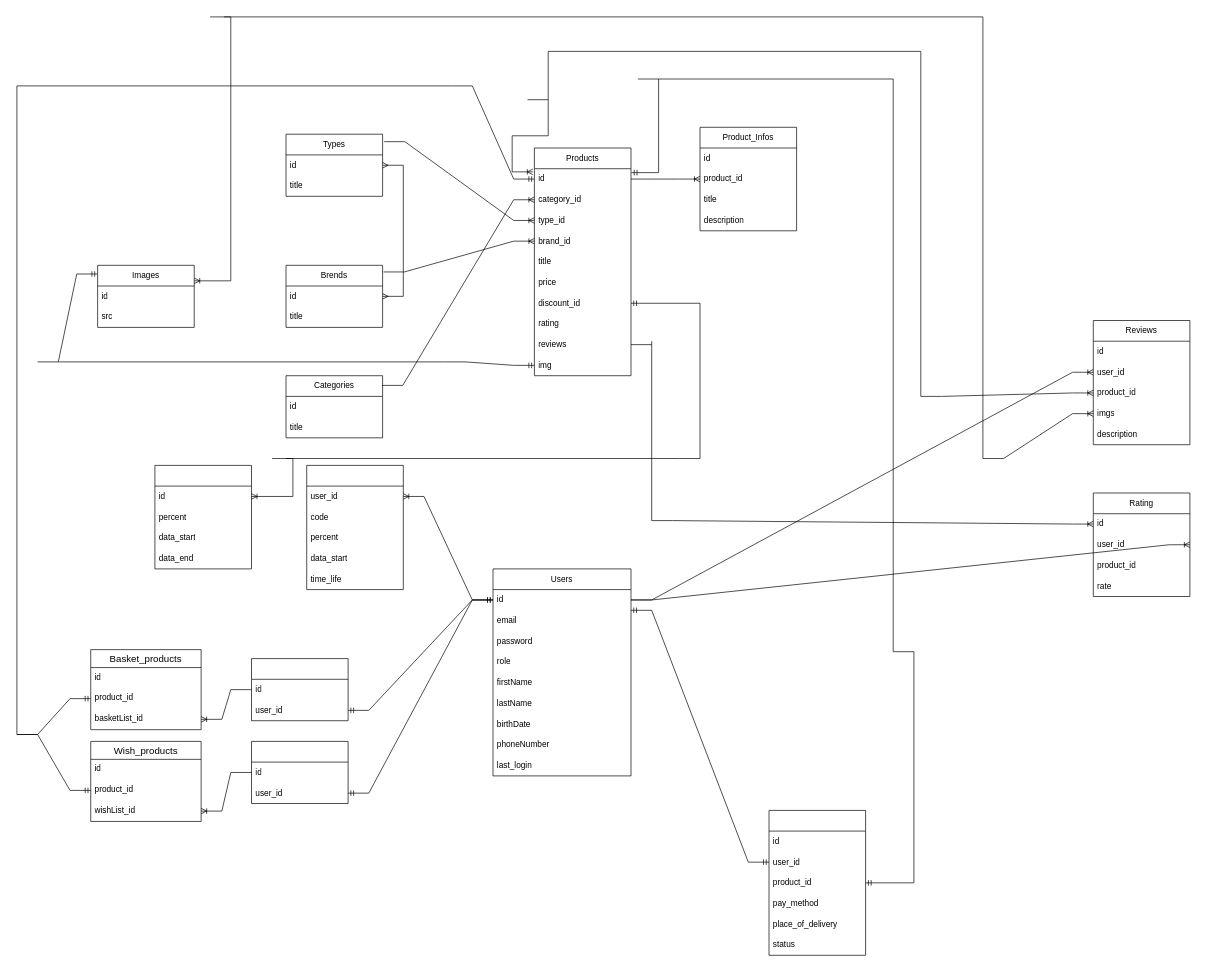
Image size: 1208x967. Some labels were removed from this diagram. The box of each missing label's shape, as (x1, y1, x2, y2) in pixels:
Basket_lists: (251, 658, 348, 721)
Discount_cards: (306, 465, 403, 590)
Discounts: (154, 465, 252, 569)
Orders: (768, 810, 866, 955)
Wish_lists: (251, 741, 348, 804)
